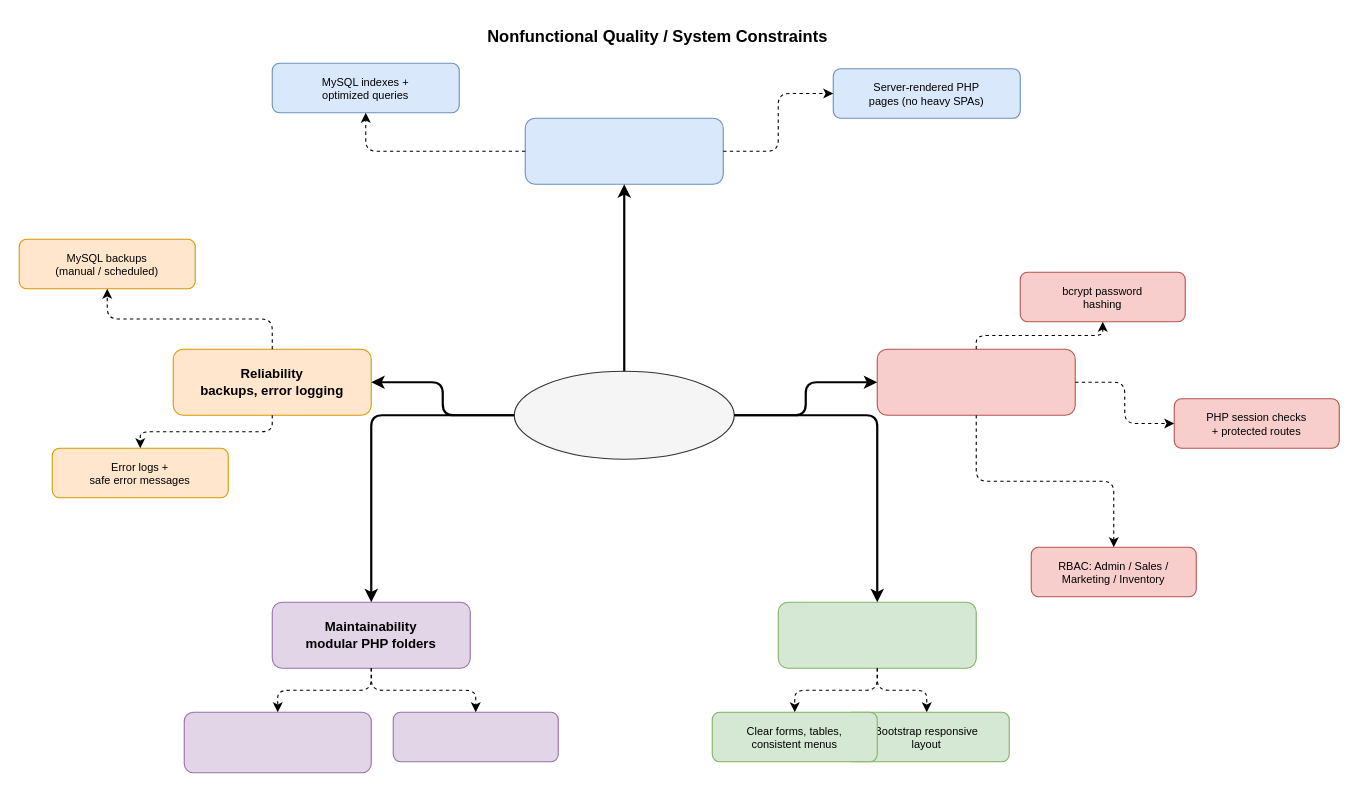
The diagram is 1359 pixels wide and 792 high, and some of its shapes have lost their labels. The centre of each missing label's shape, as x and y in pixels:
/modules/customer /rfq /campaign /inventory /integration: pixel 277 742
Performance < 3 s page loads: pixel 623 150
Security bcrypt, RBAC, sessions: pixel 975 381
Separation of concerns (MVC-like): pixel 475 736
Typhon Cath CRM: pixel 623 414
Usability Bootstrap, simple nav: pixel 876 634
